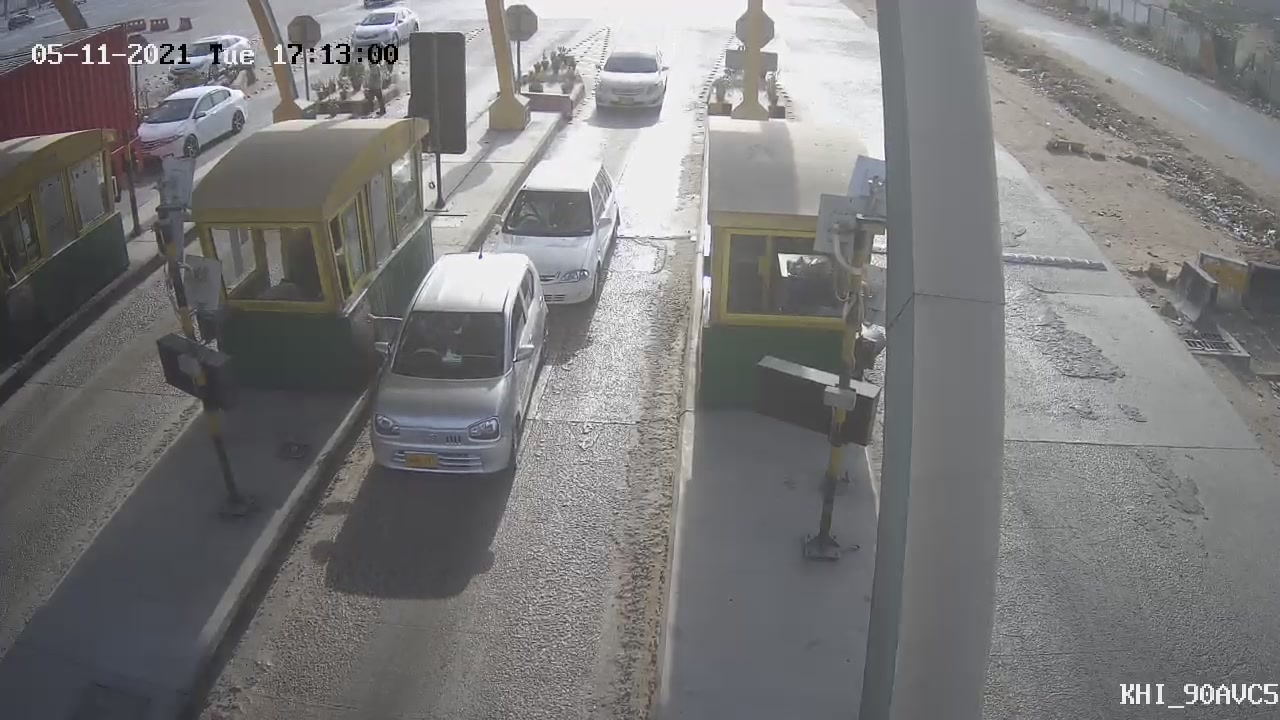F1: (347, 226, 577, 503), (473, 147, 635, 325)
